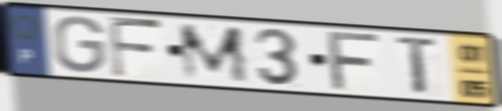3: (253, 26, 304, 89)
F: (106, 13, 167, 80), (326, 30, 385, 93)
G: (51, 14, 107, 75)
M: (176, 23, 252, 84)
T: (395, 34, 442, 98)
